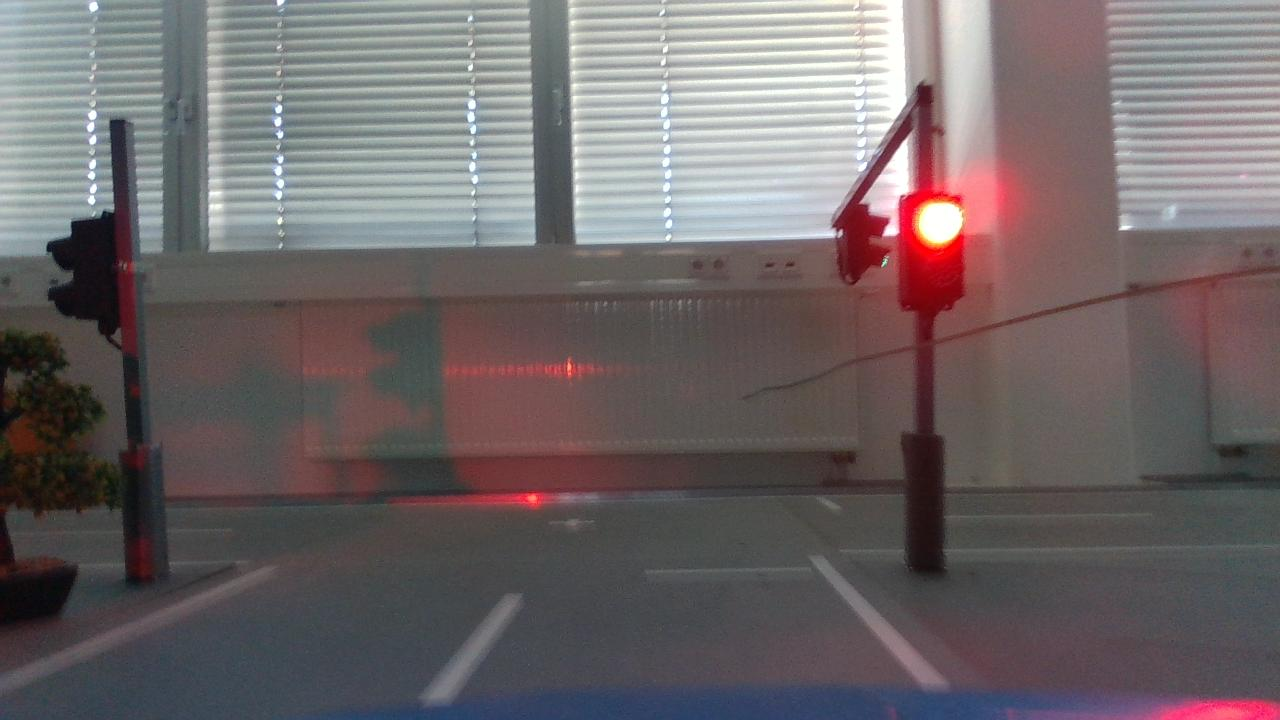traffic_light_red: (885, 184, 985, 337)
